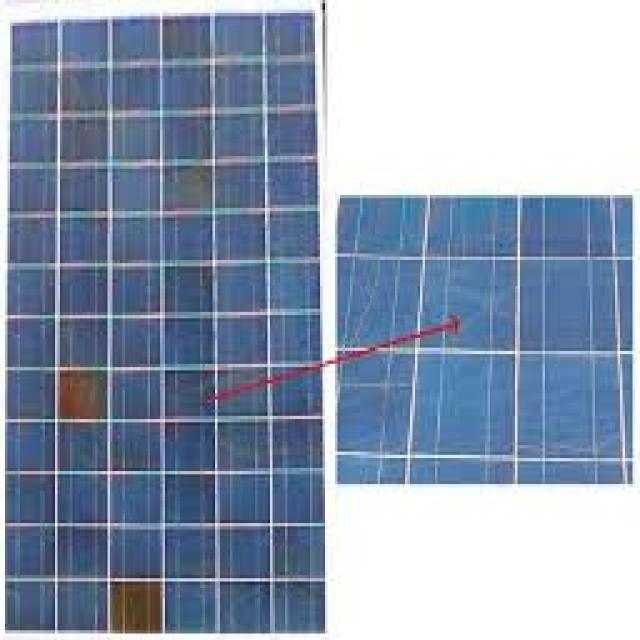faulty: (17, 21, 335, 634), (339, 190, 610, 497)
